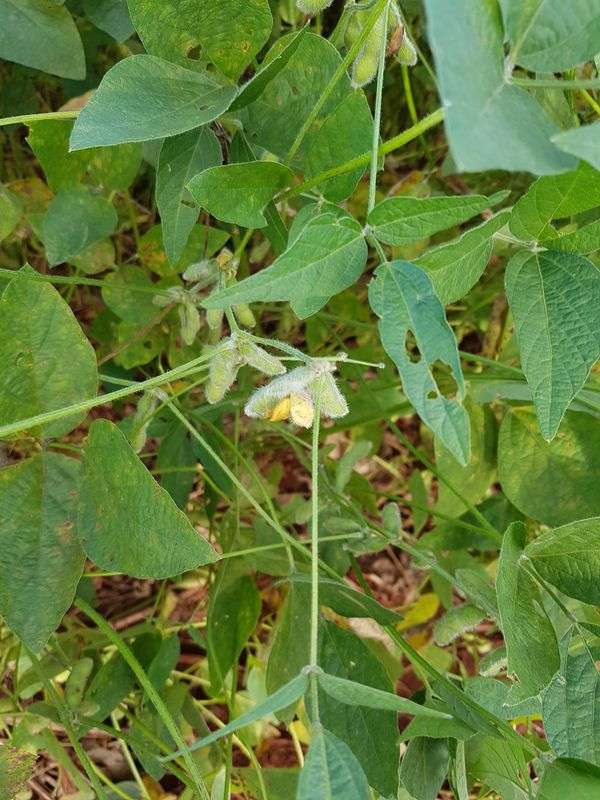Euschistus_heros_adulto: (379, 22, 413, 63)
Euschistus_heros_ninfa: (264, 393, 298, 427)
